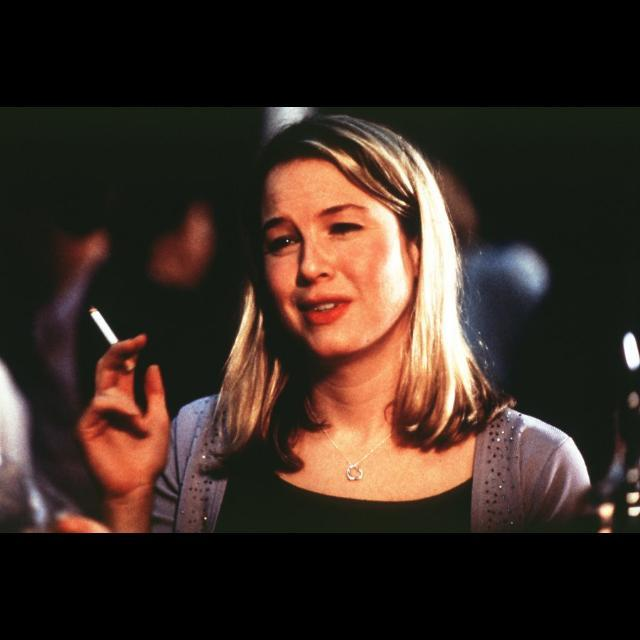rokok: (92, 304, 118, 346)
